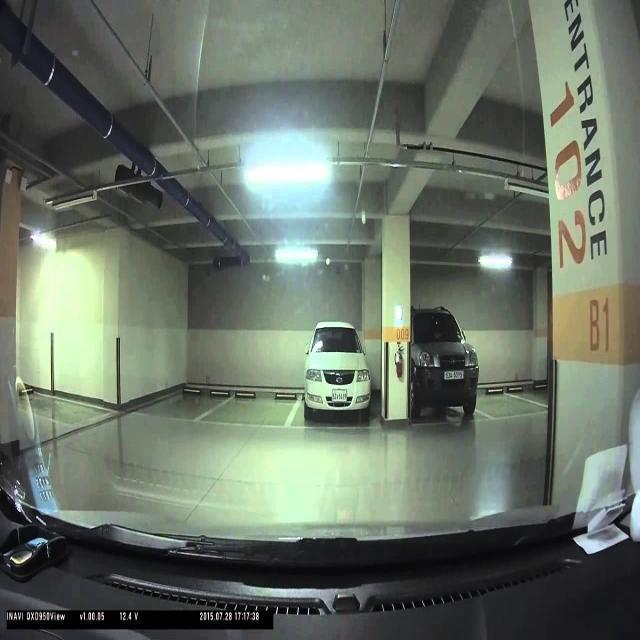Car: (405, 302, 475, 415), (303, 320, 370, 420)
Vacant: (224, 366, 294, 432), (150, 380, 220, 428), (476, 370, 548, 412)
